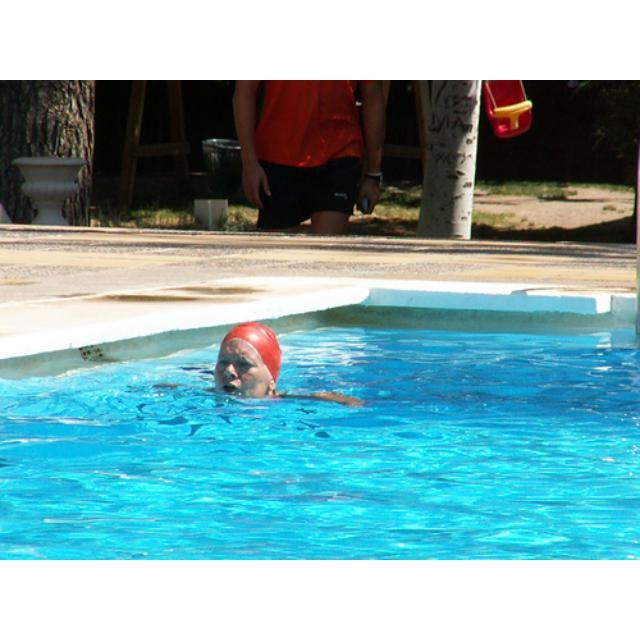human: (214, 320, 310, 414)
